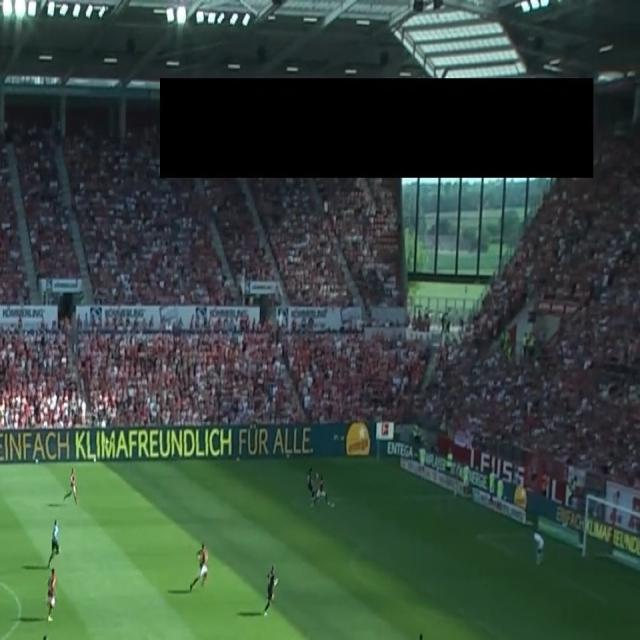ball: (330, 501, 335, 509)
